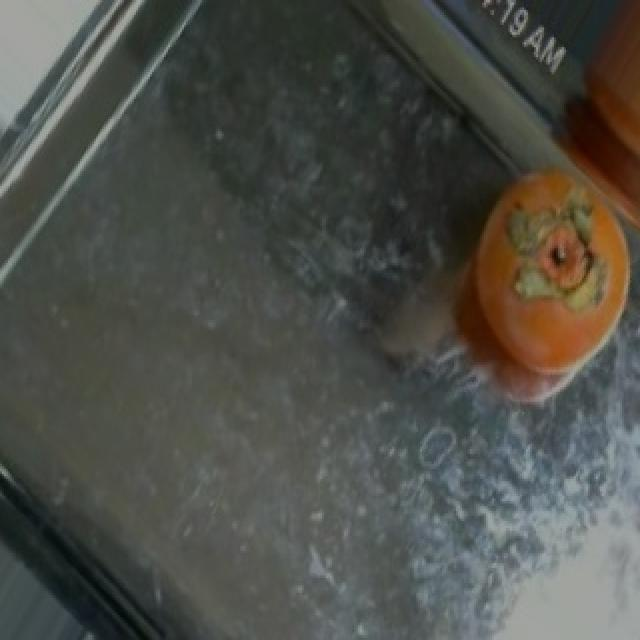Fruit: (444, 144, 632, 434)
